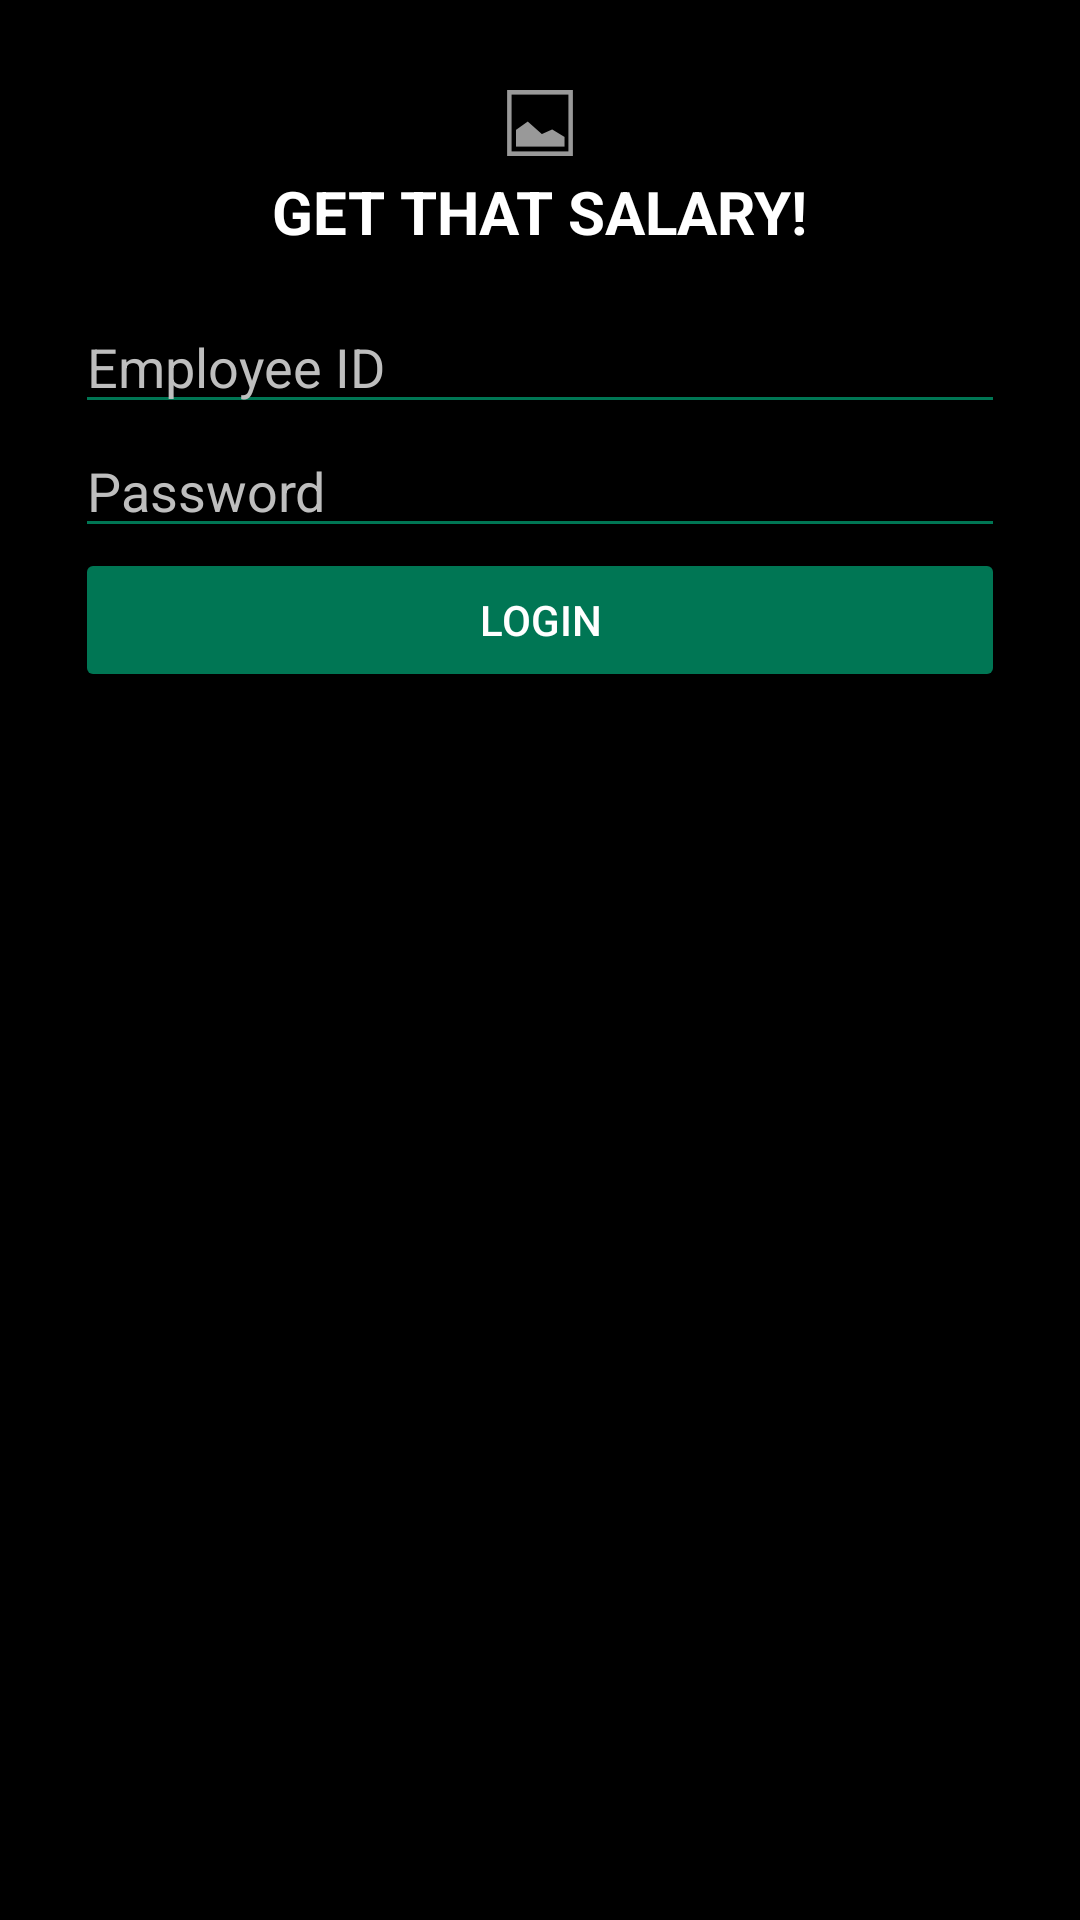

Where to tap for icons on this 1080x1920 app screen, as (x,y):
gallery: (540,123)
